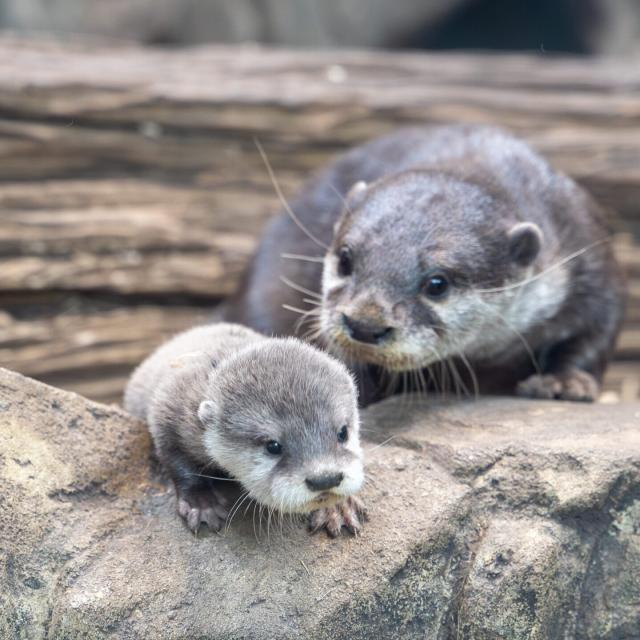Otter: (231, 122, 627, 398), (119, 322, 365, 539)
